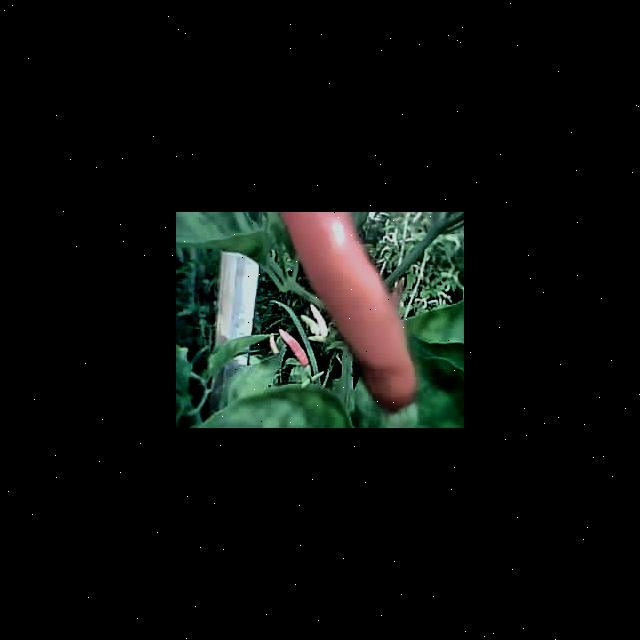Cabai: (277, 212, 424, 391), (277, 328, 304, 366)
